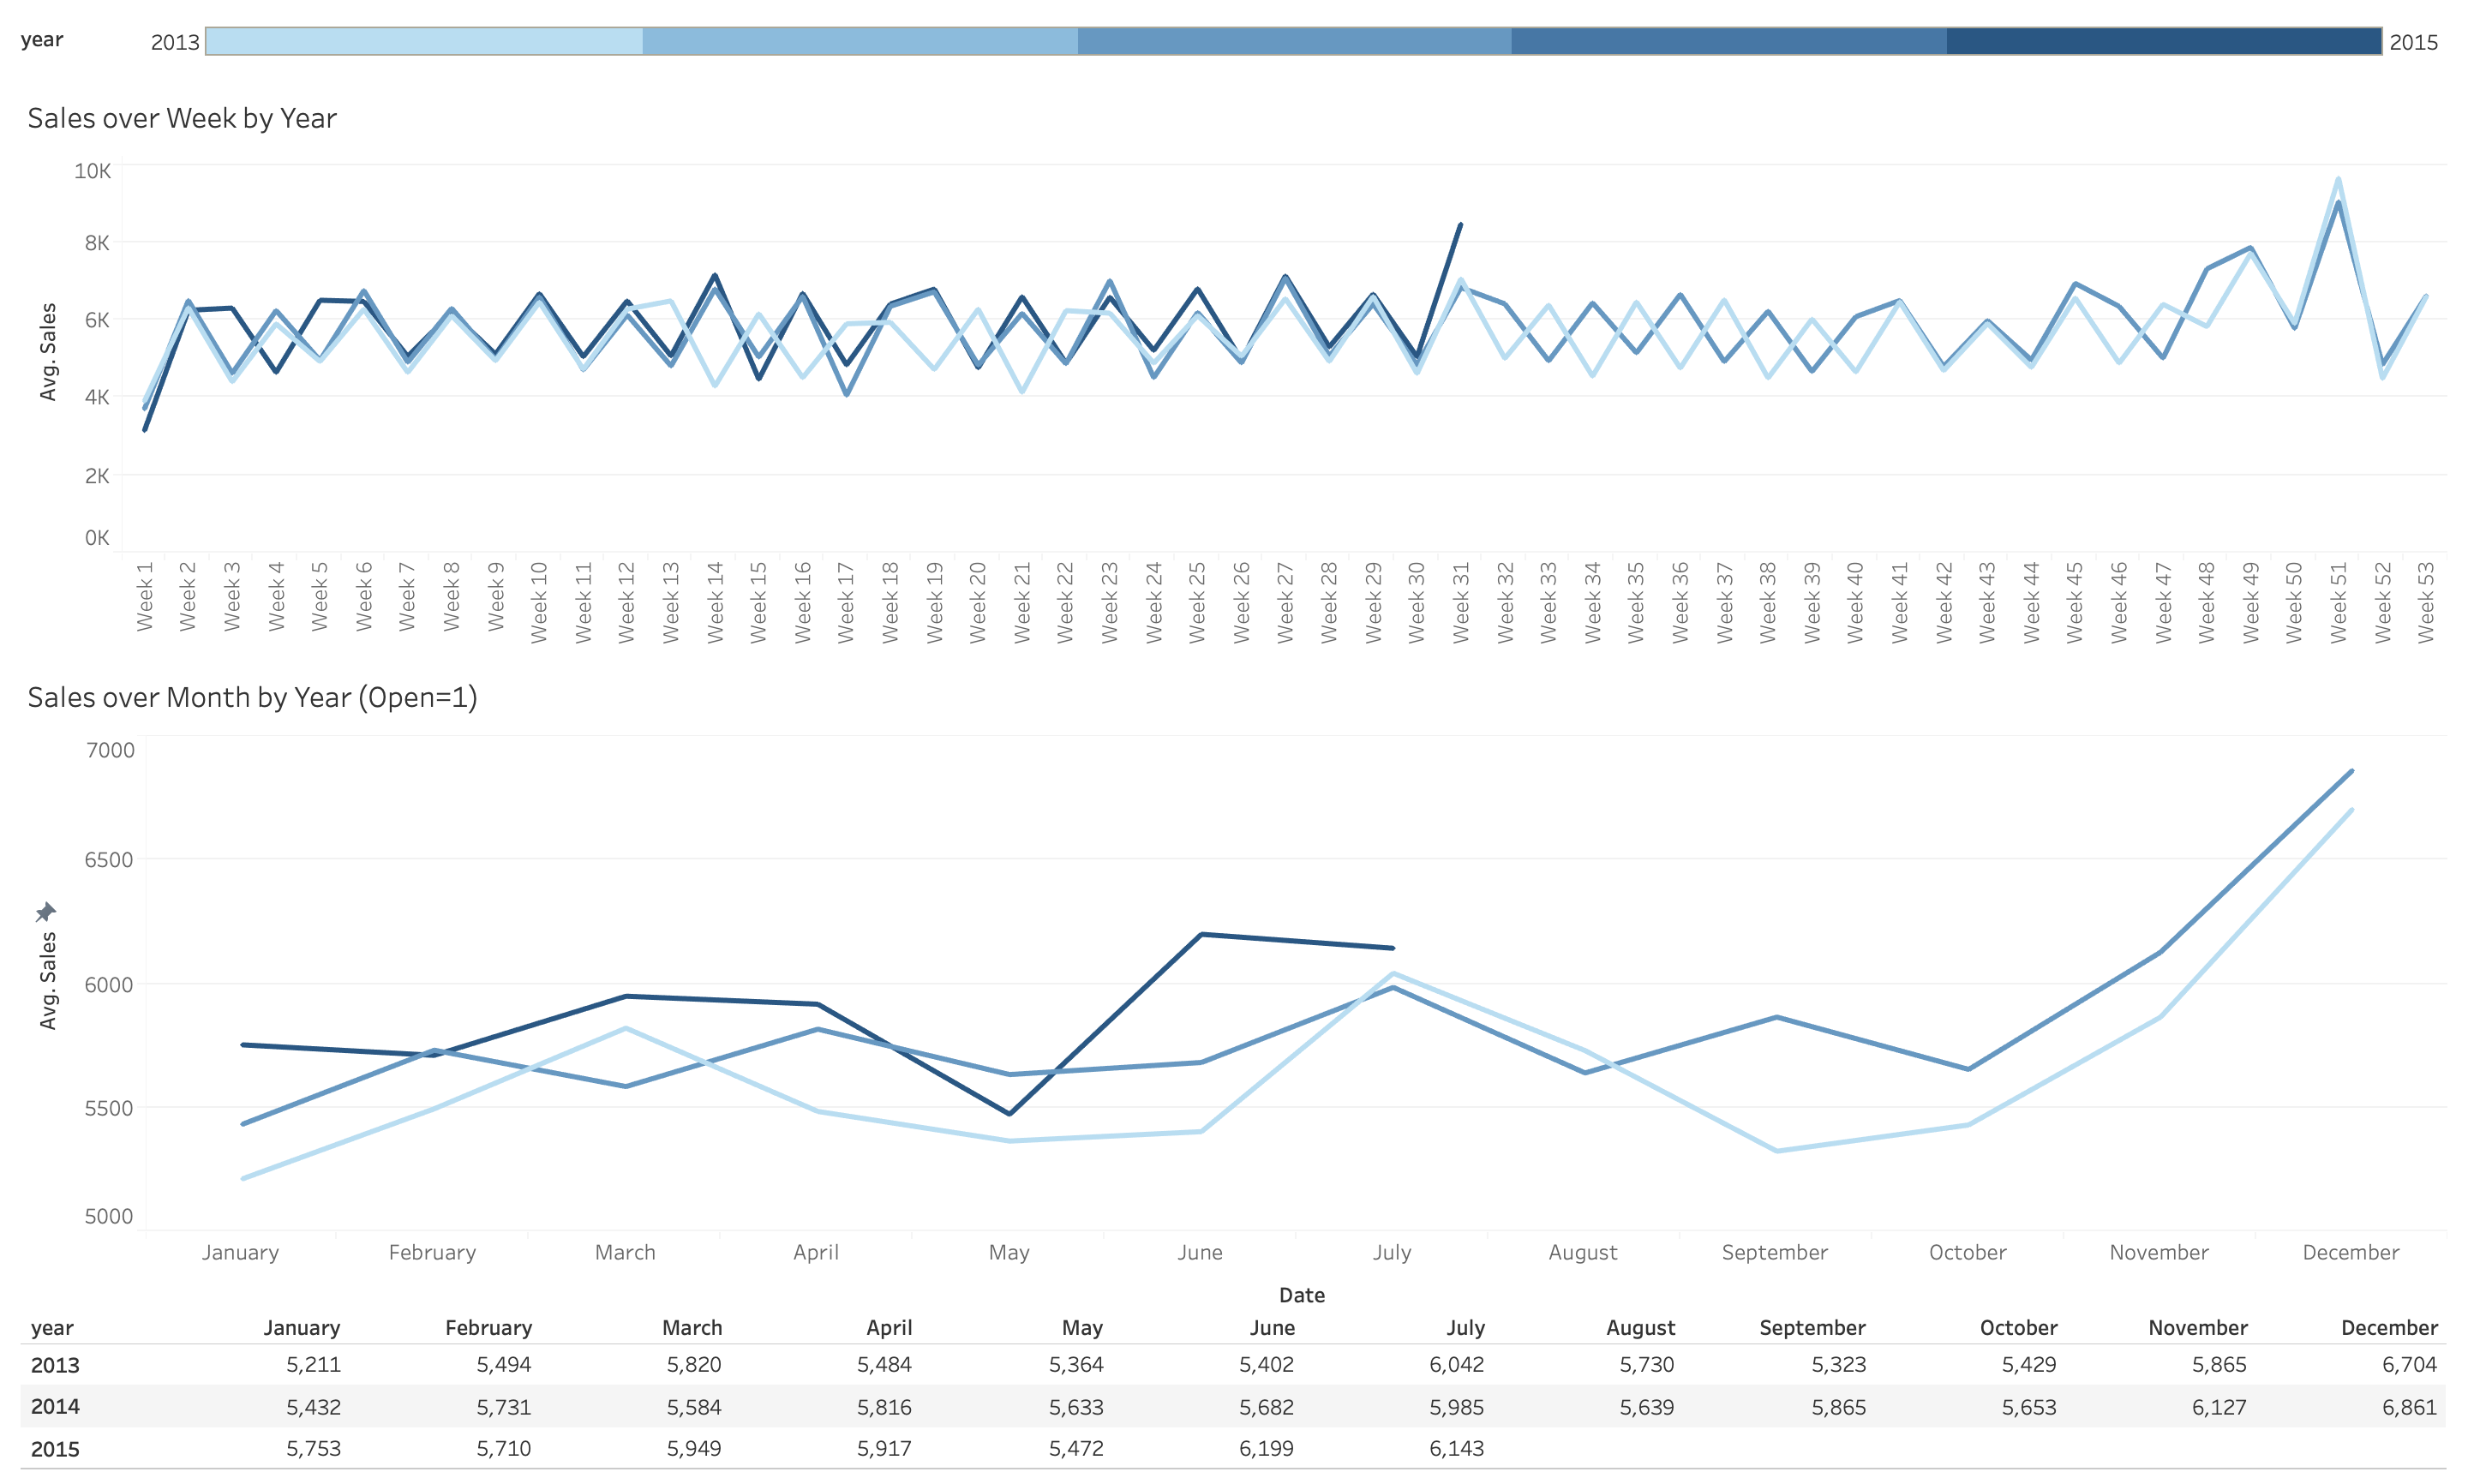

Layout of this report page (visuals, bound fields, positions):
{"tool":"tableau","page":{"name":"Dashboard 3","canvas":[1000,1000],"units":"permille","ordinal":7},"visuals":[{"type":"legend","title":"Week1","param":"[federated.186bjvi17ohryo11no4zy1xzhkgd].[none:year:qk]","box":[6.5,11.9,987,47.5]},{"type":"worksheet","title":"Week1","mark":"Automatic","rows":["Sales"],"cols":["Date"],"box":[6.5,58.9,987,385.8]},{"type":"worksheet","title":"Month","mark":"Automatic","rows":["Sales"],"cols":["Date"],"box":[6.5,444.8,987,406.4]},{"type":"worksheet","title":"Month (2)","mark":"Automatic","rows":["year"],"cols":["Date"],"box":[6.5,851.1,987,137]}]}

Visuals, with their boxes on the dashboard's canvas, which has no fixed pixel size, in thousandths of its width and height (x1, y1, x2, y2). These are canvas units, not pixel positions in the 2468x1484 screenshot, which may show the page scaled, cropped or inside an application window:
"Week1" legend: 6/12/994/59
"Week1" worksheet: 6/59/994/445
"Month" worksheet: 6/445/994/851
"Month (2)" worksheet: 6/851/994/988
